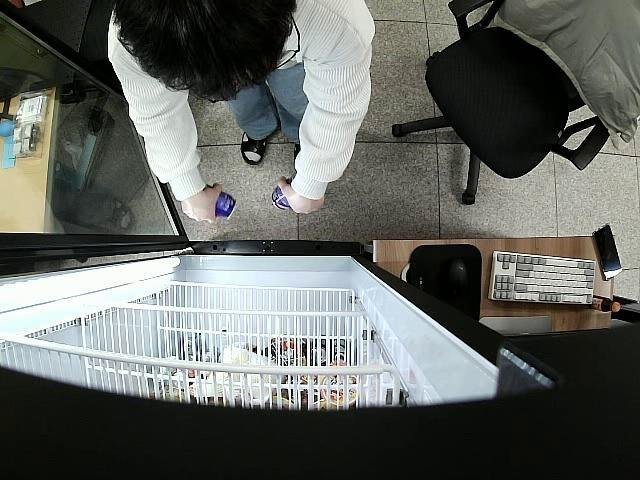14_welchsGrape: (204, 185, 238, 221), (271, 182, 295, 210)
